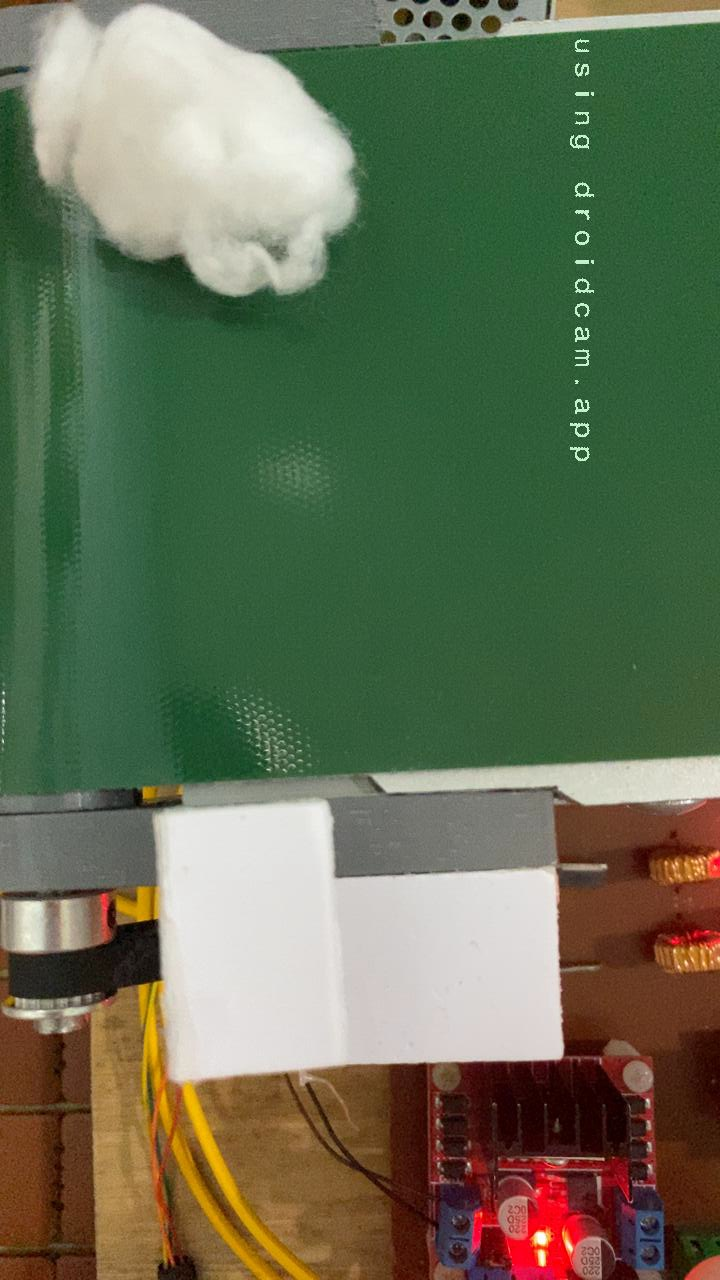cotton: (0, 38, 420, 302)
